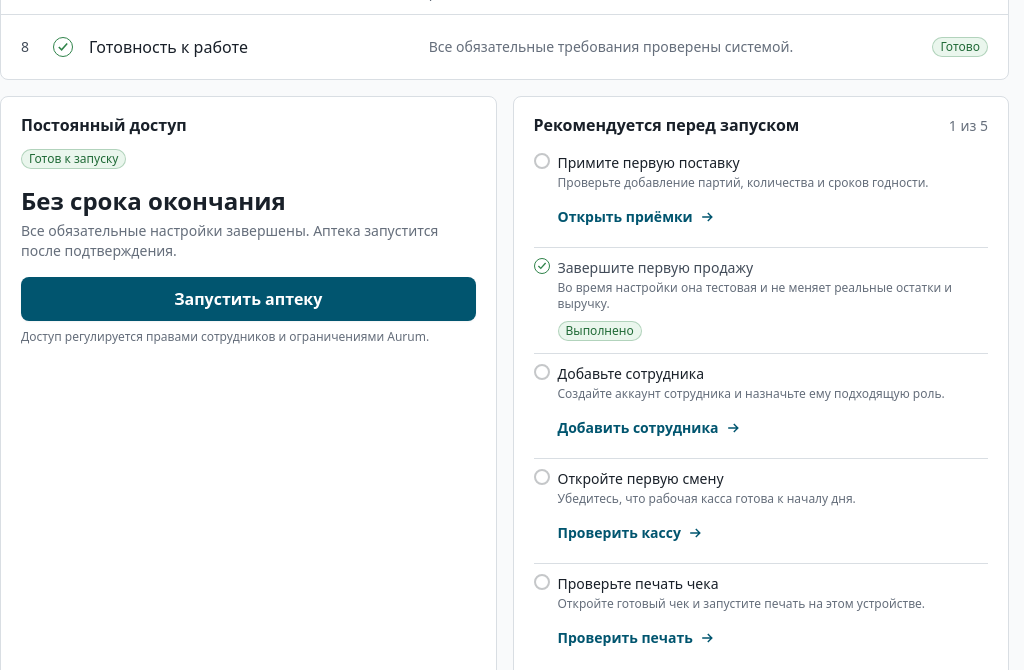
Scenario: OnboardingPage › confirms the pharmacy launch with one operation id
(page scrolled)
Click the button "Запустить аптеку": (248, 299) [21,277,476,321]
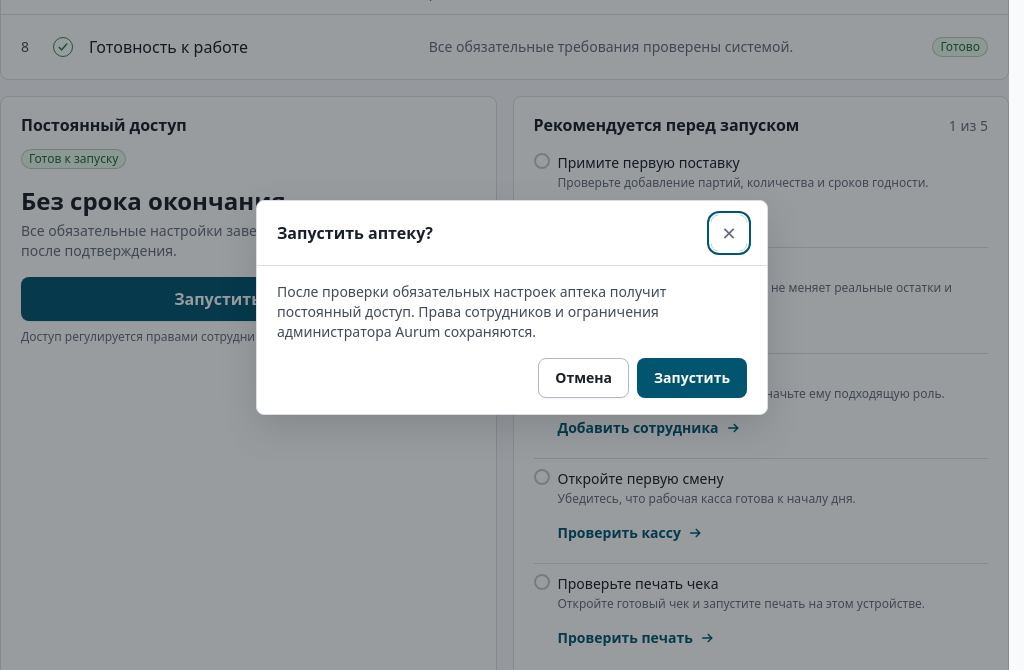
Check: the text "аптека получит постоянный доступ" is shown, box [277,282,666,340]
Click the button "Запустить": (692, 378) [637,358,747,398]
(page scrolled)
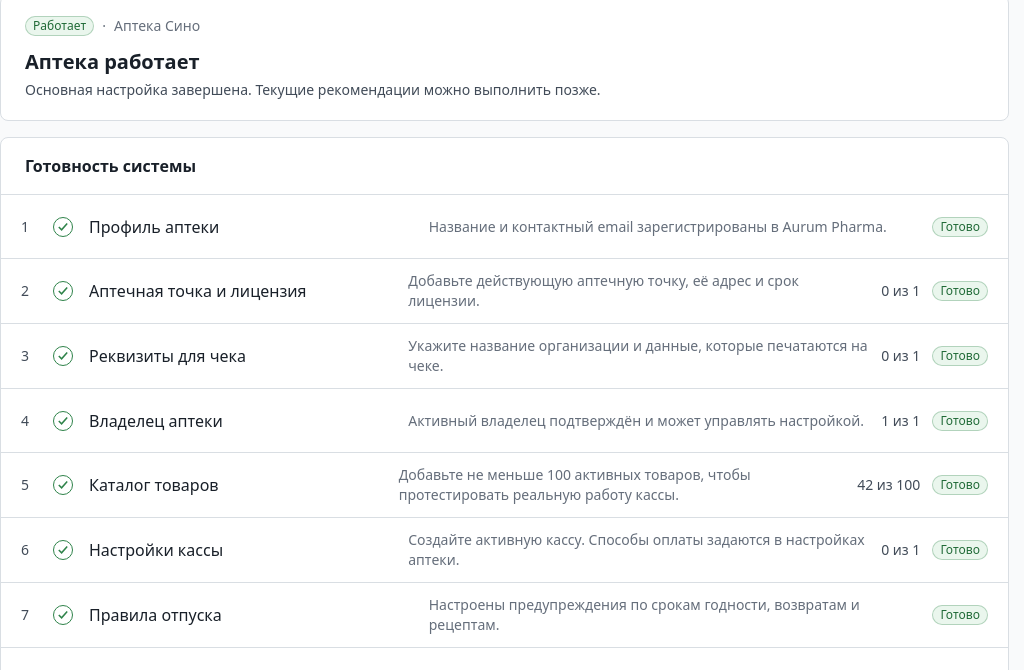
Check: the heading "Аптека работает" is shown, box [25,48,200,75]
